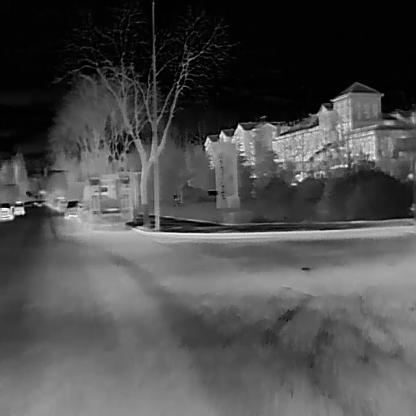car: (63, 199, 78, 219), (0, 201, 14, 219), (13, 200, 25, 214)
truck: (78, 170, 133, 232)
